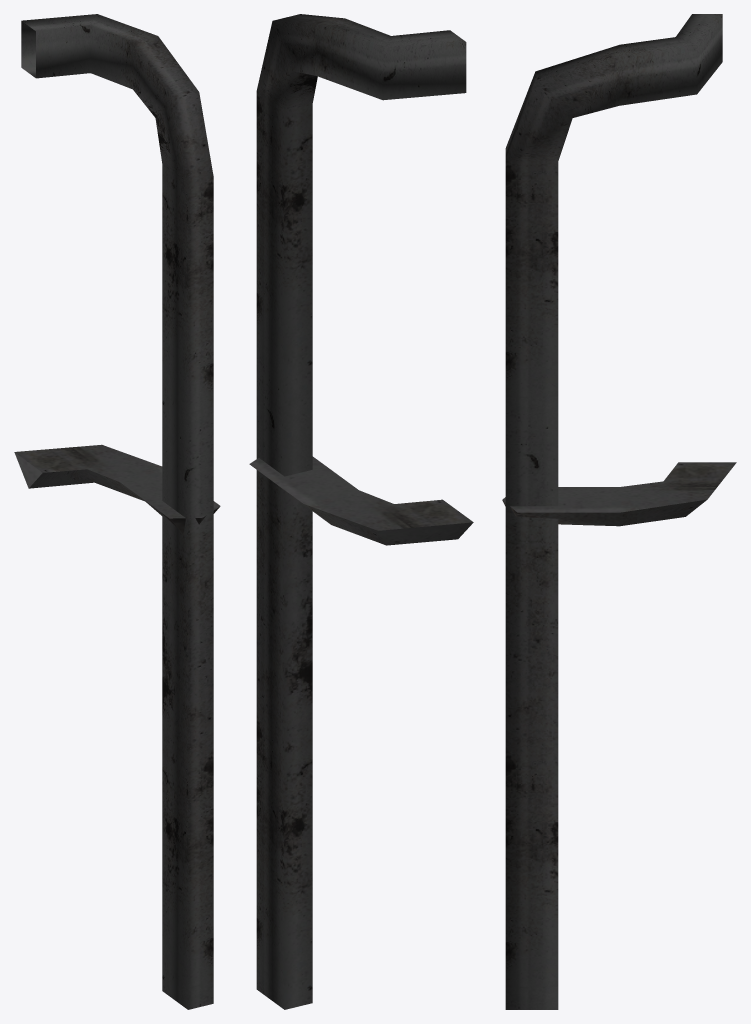
Rendered from cs_handrail_90_left_lod2.glb.
3 renders of one model, left to right at view 1: azimuth 30°, elevation 25°; view 2: azimuth 210°, elevation 25°; view 3: azimuth 270°, elevation 25°, orthographic. The views are drawn at different scales.
Parts seen in each view (by area): view 1: surf0; view 2: surf0; view 3: surf0.
Boxes of the visible parts, bbox=[...] form: surf0: bbox=[14, 14, 220, 1009]; surf0: bbox=[249, 14, 473, 1009]; surf0: bbox=[502, 14, 736, 1009].
Size of the model in its own units: 4.04 by 35.91 by 8.02.
